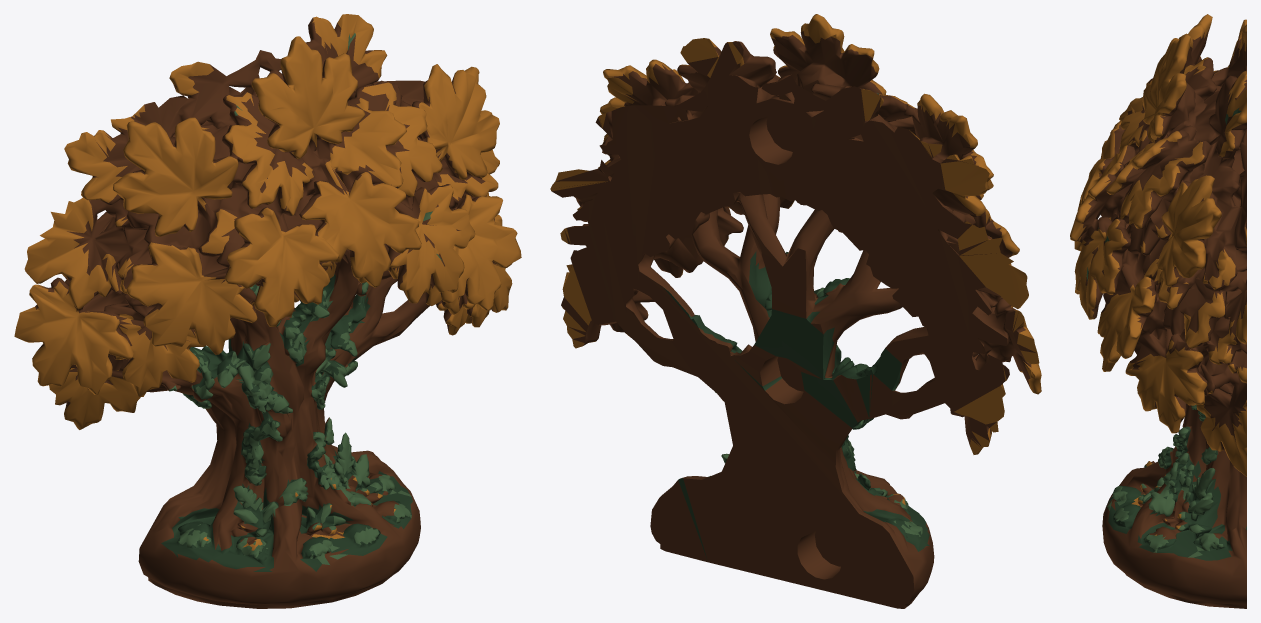
The model's file is bigleaf-maple-magnet.glb.
The picture shows the model from 3 angles, left to right: view 1: azimuth 30°, elevation 25°; view 2: azimuth 150°, elevation 25°; view 3: azimuth 270°, elevation 25°; orthographic projection. The views are drawn at different scales.
Visible parts, largest first — view 1: magnet; view 2: magnet; view 3: magnet.
Boxes of the visible parts, x1=… form: magnet: x1=14, y1=14, x2=521, y2=608; magnet: x1=550, y1=14, x2=1041, y2=608; magnet: x1=1070, y1=14, x2=1246, y2=608.
Size of the model in its own units: 68.61 by 72.9 by 22.54.
